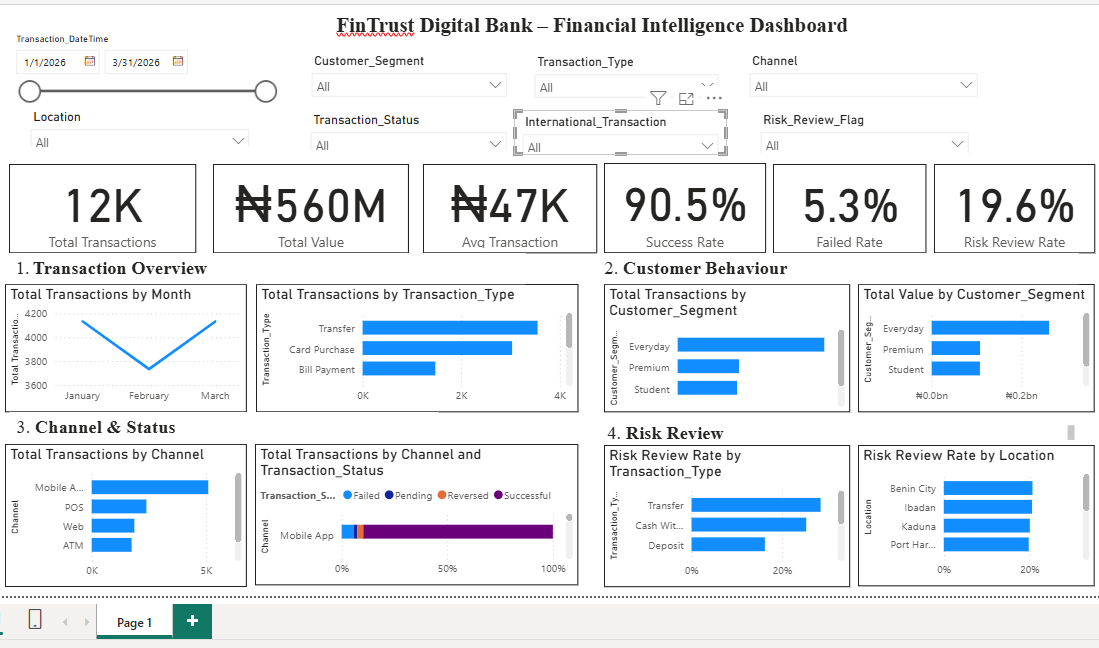

What the dashboard file says about the page in this screenshot:
{"tool":"powerbi","page":{"name":"Page 1","canvas":[1280,720],"ordinal":0},"visuals":[{"type":"card","fields":{"Values":["Transaction_Cleaned.Total Transactions"]},"box":[15,221.5,215.8,102.7],"z":0},{"type":"card","fields":{"Values":["Transaction_Cleaned.Total Value"]},"box":[250.4,221.5,226.2,102.7],"z":1000},{"type":"card","fields":{"Values":["Transaction_Cleaned.Avg Transaction"]},"box":[492.7,221.5,200.8,102.7],"z":2000},{"type":"card","fields":{"Values":["Transaction_Cleaned.Success Rate"]},"box":[701.5,220.4,186.9,103.8],"z":3000},{"type":"card","fields":{"Values":["Transaction_Cleaned.Failed Rate"]},"box":[896.5,221.5,176.5,102.7],"z":4000},{"type":"card","fields":{"Values":["Transaction_Cleaned.Risk Review Rate"]},"box":[1082.3,221.5,185.8,102.7],"z":5000},{"type":"slicer","fields":{"Values":["Transaction_Cleaned.Transaction_DateTime"]},"box":[10.4,65.8,321.9,87.7],"z":6000},{"type":"slicer","fields":{"Values":["Customer_Cleaned.Customer_Segment"]},"box":[354.2,88.8,244.6,64.6],"z":7000},{"type":"slicer","fields":{"Values":["Transaction_Cleaned.Transaction_Type"]},"box":[611.5,90,231.9,68.1],"z":8000},{"type":"slicer","fields":{"Values":["Transaction_Cleaned.Channel"]},"box":[859.6,88.8,282.7,68.1],"z":9000},{"type":"slicer","fields":{"Values":["Transaction_Cleaned.Location"]},"box":[30,153.5,272.3,48.5],"z":10000},{"type":"slicer","fields":{"Values":["Transaction_Cleaned.Transaction_Status"]},"box":[353.1,156.9,245.8,48.5],"z":11000},{"type":"slicer","fields":{"Values":["Transaction_Cleaned.International_Transaction"]},"box":[597.7,156.9,245.8,51.9],"z":12000},{"type":"slicer","fields":{"Values":["Transaction_Cleaned.Risk_Review_Flag"]},"box":[872.3,156.9,259.6,51.9],"z":13000},{"type":"lineChart","fields":{"Y":["Transaction_Cleaned.Total Transactions"],"Category":["Transaction_Cleaned.Transaction_DateTime.Variation.Date Hierarchy.Year","Transaction_Cleaned.Transaction_DateTime.Variation.Date Hierarchy.Quarter","Transaction_Cleaned.Transaction_DateTime.Variation.Date Hierarchy.Month","Transaction_Cleaned.Transaction_DateTime.Variation.Date Hierarchy.Day"]},"box":[10.4,360,279.2,147.7],"z":14000},{"type":"clusteredBarChart","fields":{"Category":["Transaction_Cleaned.Transaction_Type"],"Y":["Transaction_Cleaned.Total Transactions"]},"box":[300,360,371.5,147.7],"z":15000},{"type":"clusteredBarChart","fields":{"Category":["Customer_Cleaned.Customer_Segment"],"Y":["Transaction_Cleaned.Total Transactions"]},"box":[701.5,360,283.8,147.7],"z":16000},{"type":"clusteredBarChart","fields":{"Y":["Transaction_Cleaned.Total Value"],"Category":["Customer_Cleaned.Customer_Segment"]},"box":[994.6,360,273.5,147.7],"z":17000},{"type":"clusteredBarChart","fields":{"Category":["Transaction_Cleaned.Channel"],"Y":["Transaction_Cleaned.Total Transactions"]},"box":[10.4,544.6,279.2,165],"z":18000},{"type":"hundredPercentStackedBarChart","fields":{"Category":["Transaction_Cleaned.Channel"],"Y":["Transaction_Cleaned.Total Transactions"],"Series":["Transaction_Cleaned.Transaction_Status"]},"box":[298.8,544.6,372.7,162.7],"z":19000},{"type":"clusteredBarChart","fields":{"Category":["Transaction_Cleaned.Transaction_Type"],"Y":["Transaction_Cleaned.Risk Review Rate"]},"box":[701.5,545.8,283.8,163.8],"z":20000},{"type":"clusteredBarChart","fields":{"Category":["Transaction_Cleaned.Location"],"Y":["Transaction_Cleaned.Risk Review Rate"]},"box":[994.6,545.8,273.5,162.7],"z":21000},{"type":"textbox","box":[373.8,42.7,627.7,46.2],"z":22000},{"type":"textbox","box":[10.4,324.2,601.2,35.8],"z":23000},{"type":"textbox","box":[693.5,324.2,556.2,35.8],"z":24000},{"type":"textbox","box":[15,507.7,496.2,36.9],"z":25000},{"type":"textbox","box":[693.5,516.9,556.2,27.7],"z":26000}]}

Visuals, with their boxes in screenshot pixels (x1, y1, x2, y2):
card - Transaction_Cleaned.Total Transactions: {"left": 2, "top": 160, "right": 191, "bottom": 250}
card - Transaction_Cleaned.Total Value: {"left": 208, "top": 160, "right": 407, "bottom": 250}
card - Transaction_Cleaned.Avg Transaction: {"left": 421, "top": 160, "right": 597, "bottom": 250}
card - Transaction_Cleaned.Success Rate: {"left": 604, "top": 159, "right": 768, "bottom": 250}
card - Transaction_Cleaned.Failed Rate: {"left": 776, "top": 160, "right": 930, "bottom": 250}
card - Transaction_Cleaned.Risk Review Rate: {"left": 939, "top": 160, "right": 1098, "bottom": 250}
slicer - Transaction_Cleaned.Transaction_DateTime: {"left": 0, "top": 23, "right": 280, "bottom": 100}
slicer - Customer_Cleaned.Customer_Segment: {"left": 299, "top": 44, "right": 514, "bottom": 100}
slicer - Transaction_Cleaned.Transaction_Type: {"left": 525, "top": 45, "right": 729, "bottom": 104}
slicer - Transaction_Cleaned.Channel: {"left": 743, "top": 44, "right": 991, "bottom": 103}
slicer - Transaction_Cleaned.Location: {"left": 15, "top": 100, "right": 254, "bottom": 143}
slicer - Transaction_Cleaned.Transaction_Status: {"left": 299, "top": 103, "right": 514, "bottom": 146}
slicer - Transaction_Cleaned.International_Transaction: {"left": 513, "top": 103, "right": 729, "bottom": 149}
slicer - Transaction_Cleaned.Risk_Review_Flag: {"left": 754, "top": 103, "right": 982, "bottom": 149}
lineChart - Transaction_Cleaned.Total Transactions x Transaction_Cleaned.Transaction_DateTime.Variation.Date Hierarchy.Year: {"left": 0, "top": 282, "right": 243, "bottom": 411}
clusteredBarChart - Transaction_Cleaned.Transaction_Type x Transaction_Cleaned.Total Transactions: {"left": 252, "top": 282, "right": 578, "bottom": 411}
clusteredBarChart - Customer_Cleaned.Customer_Segment x Transaction_Cleaned.Total Transactions: {"left": 604, "top": 282, "right": 853, "bottom": 411}
clusteredBarChart - Transaction_Cleaned.Total Value x Customer_Cleaned.Customer_Segment: {"left": 862, "top": 282, "right": 1098, "bottom": 411}
clusteredBarChart - Transaction_Cleaned.Channel x Transaction_Cleaned.Total Transactions: {"left": 0, "top": 444, "right": 243, "bottom": 589}
hundredPercentStackedBarChart - Transaction_Cleaned.Channel x Transaction_Cleaned.Total Transactions: {"left": 251, "top": 444, "right": 578, "bottom": 587}
clusteredBarChart - Transaction_Cleaned.Transaction_Type x Transaction_Cleaned.Risk Review Rate: {"left": 604, "top": 445, "right": 853, "bottom": 589}
clusteredBarChart - Transaction_Cleaned.Location x Transaction_Cleaned.Risk Review Rate: {"left": 862, "top": 445, "right": 1098, "bottom": 588}
textbox: {"left": 317, "top": 3, "right": 868, "bottom": 44}
textbox: {"left": 0, "top": 250, "right": 525, "bottom": 282}
textbox: {"left": 597, "top": 250, "right": 1086, "bottom": 282}
textbox: {"left": 2, "top": 411, "right": 437, "bottom": 444}
textbox: {"left": 597, "top": 419, "right": 1086, "bottom": 444}
